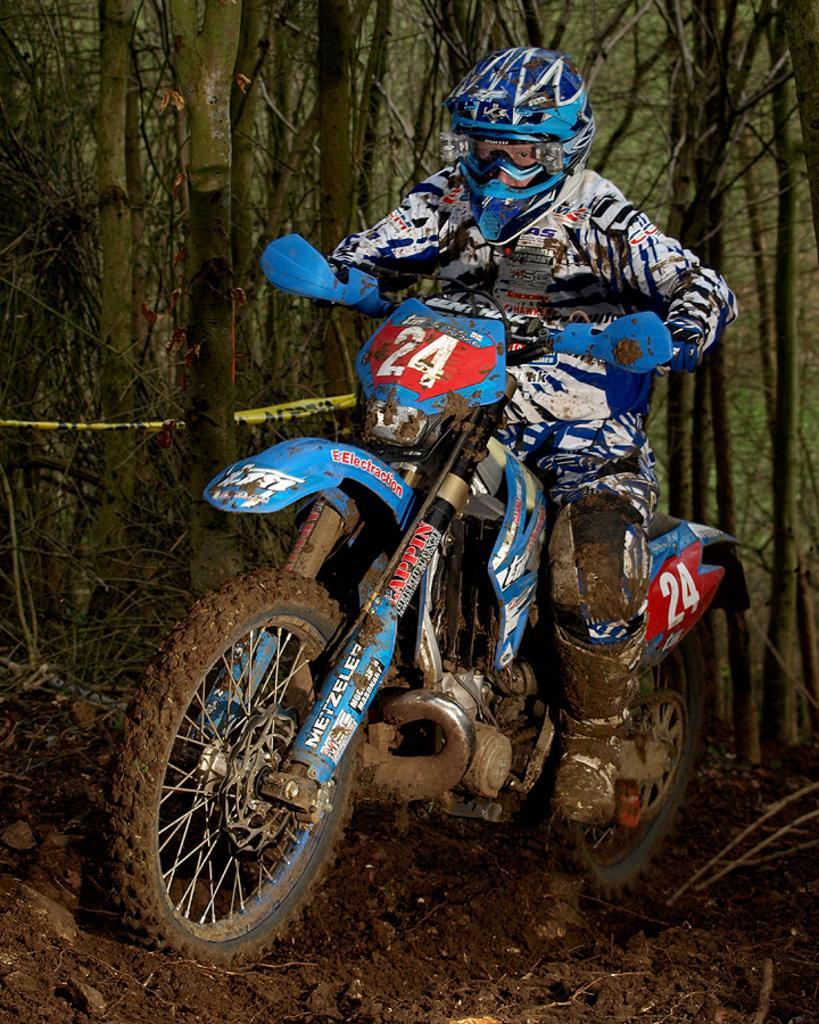helmet: (440, 45, 597, 246)
